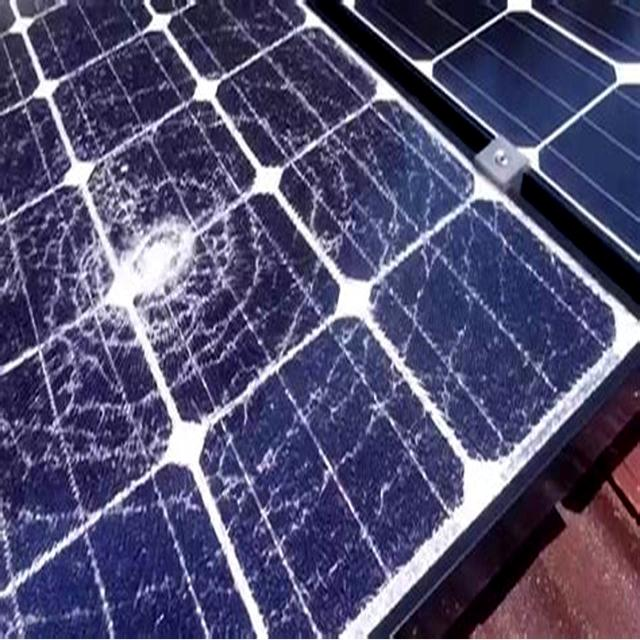hotspot: (34, 388, 195, 580), (80, 181, 237, 342), (282, 187, 408, 376), (208, 444, 318, 598)
